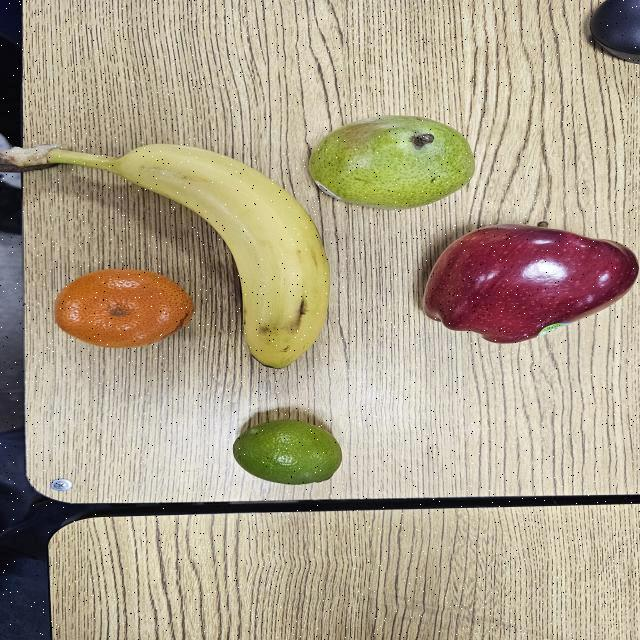Apel Merah: (409, 218, 640, 350)
Jeruk Mandarin: (41, 265, 203, 356)
Lemon: (224, 418, 350, 490)
Pir: (296, 109, 484, 216)
Pisang: (0, 138, 334, 374)
